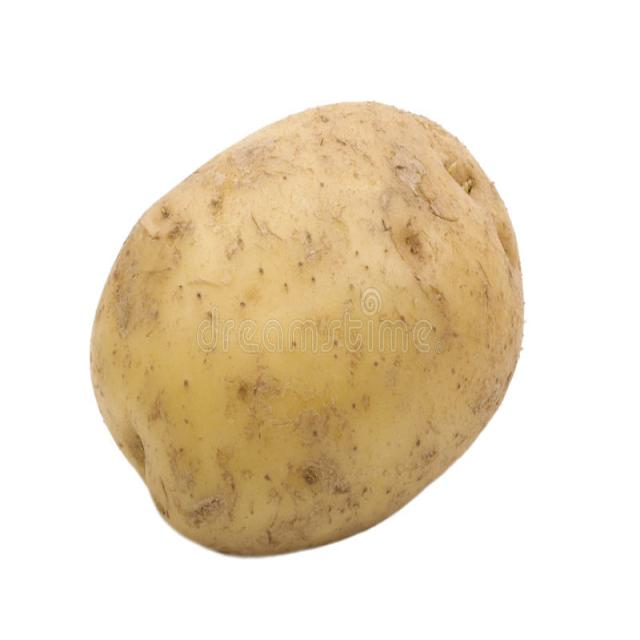potato: (88, 103, 526, 560)
